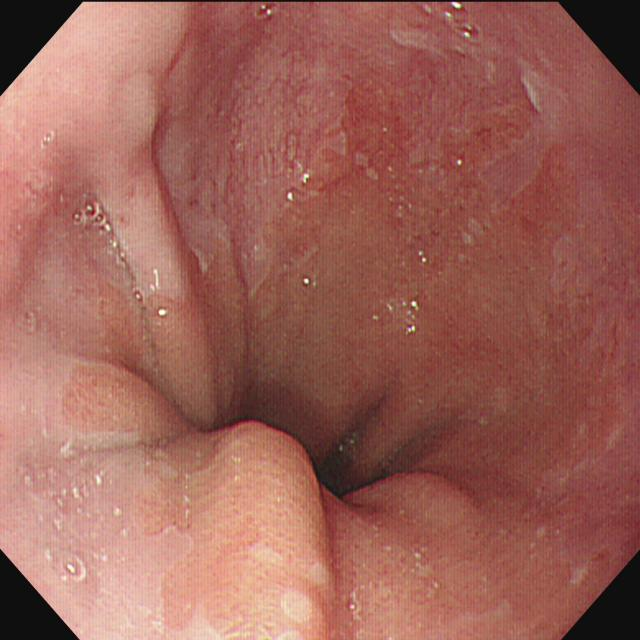I: (155, 324, 467, 543)
T: (69, 200, 145, 306), (440, 2, 481, 45), (53, 551, 91, 586)
U: (404, 299, 420, 340), (301, 172, 311, 187), (286, 191, 296, 204)
